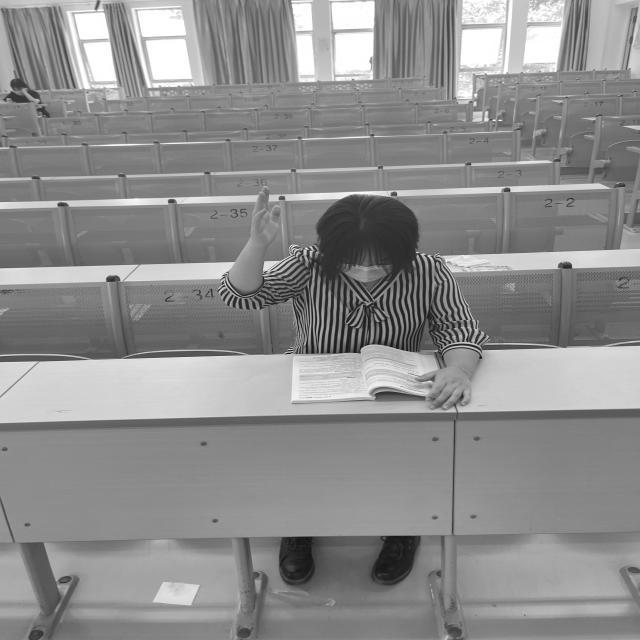study: (219, 186, 488, 409)
